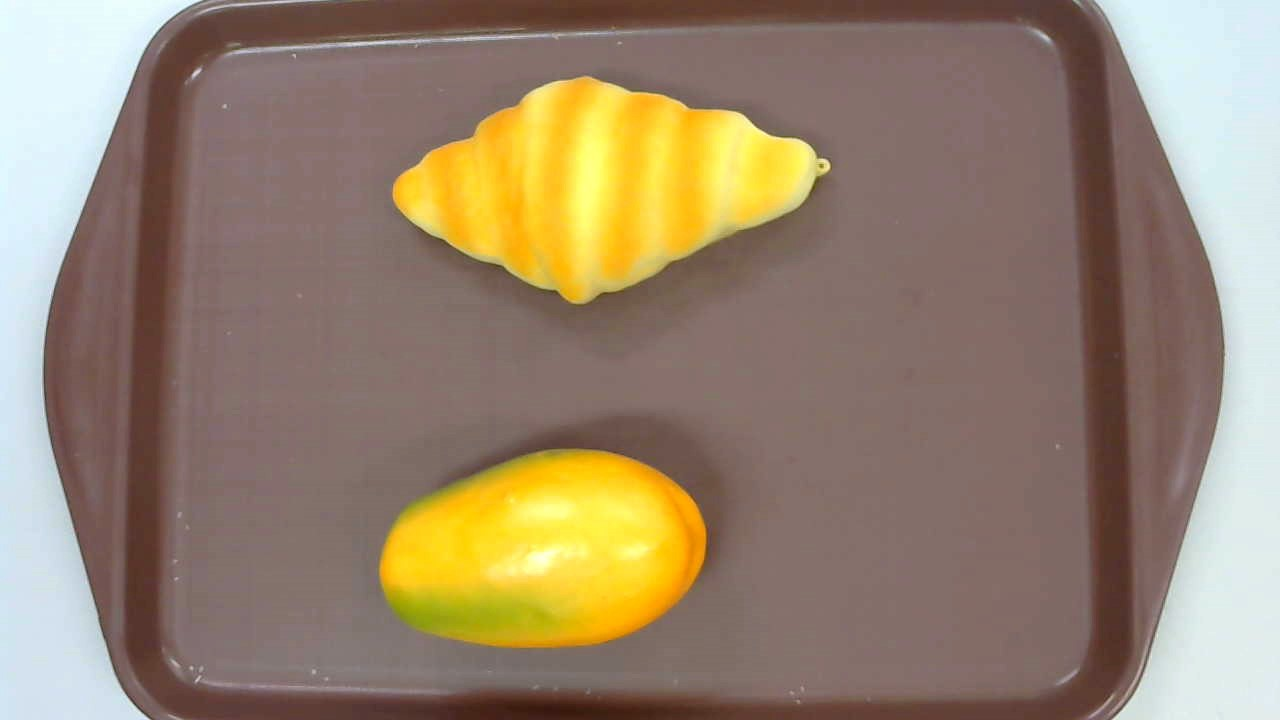croissant: (391, 75, 833, 308)
papya: (378, 448, 707, 649)
